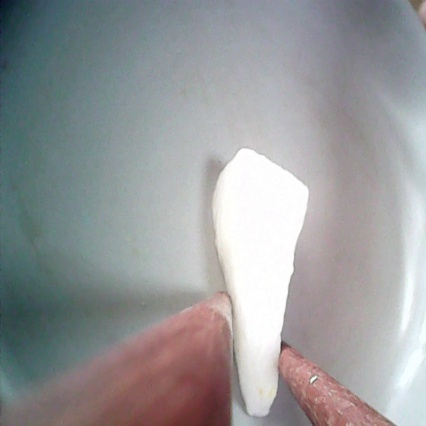white_chinese-yam: (207, 146, 320, 415)
